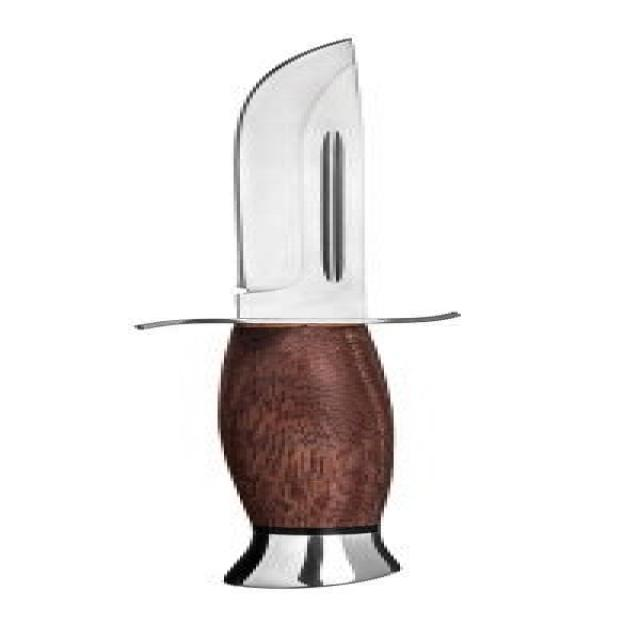knife: (132, 30, 498, 599)
